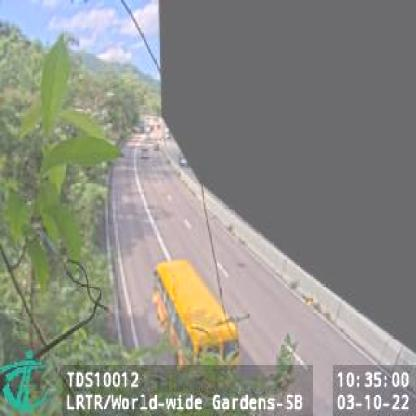Bus: (152, 260, 238, 376)
